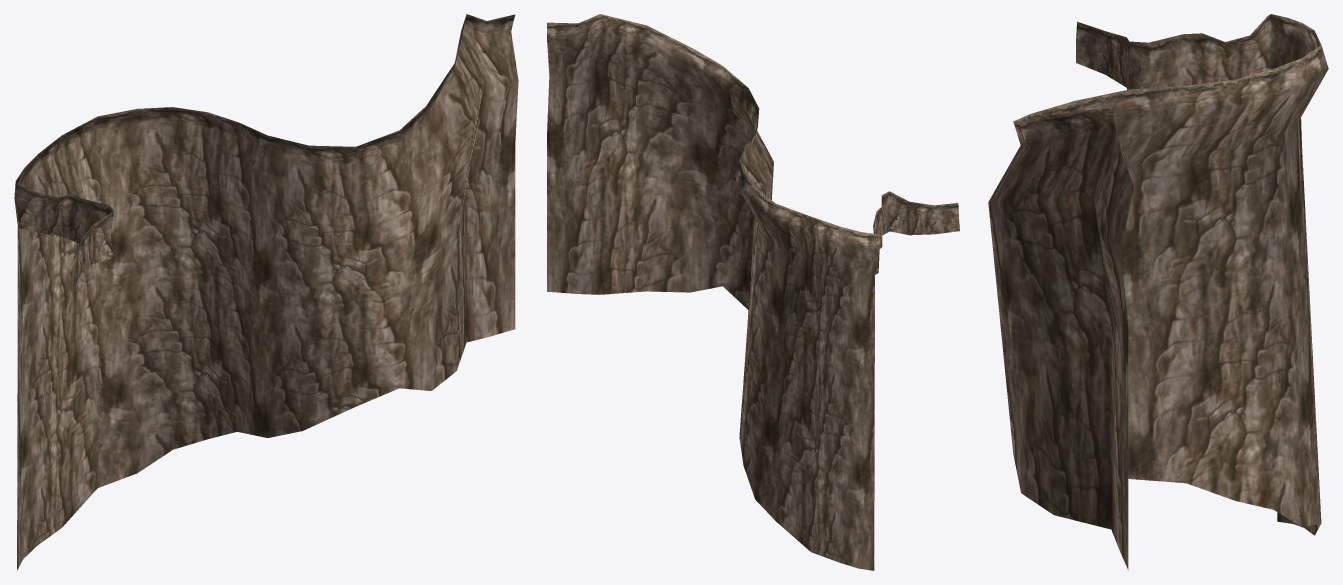
File: OVERHILL_A_01_OBJECT53.fbx
3 views of the same model, side by side, from view 1: azimuth 30°, elevation 25°; view 2: azimuth 150°, elevation 25°; view 3: azimuth 270°, elevation 25° (orthographic). The views are drawn at different scales.
Visible parts, largest first — view 1: OVERHILL_A_01_OBJECT53; view 2: OVERHILL_A_01_OBJECT53; view 3: OVERHILL_A_01_OBJECT53.
Boxes of the visible parts, x1,y1,x2,y2 form: OVERHILL_A_01_OBJECT53: [14, 14, 518, 570]; OVERHILL_A_01_OBJECT53: [547, 14, 959, 570]; OVERHILL_A_01_OBJECT53: [988, 14, 1328, 569].
Size of the model in its own units: 223891 by 235861 by 110794.
2 materials, 2 textured.
